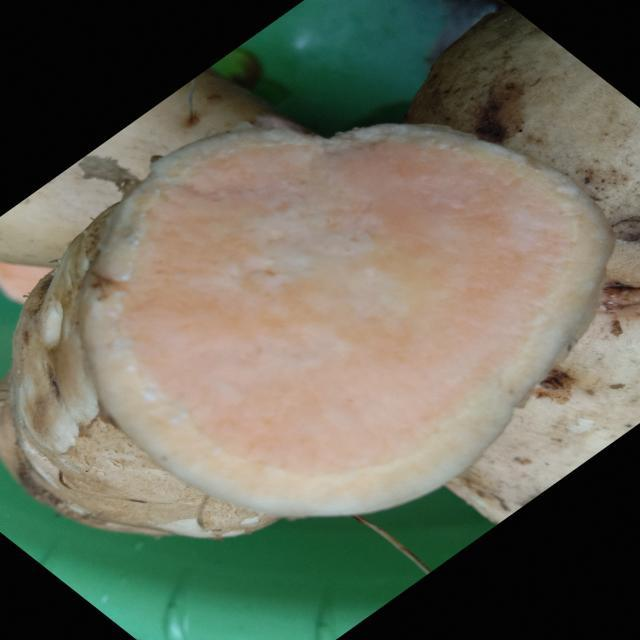Healthy Sweet Potato: (82, 125, 613, 518)
